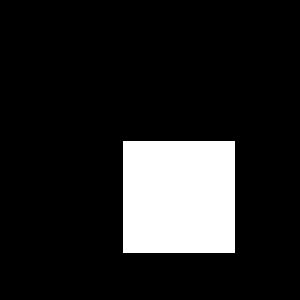circle: (123, 141, 235, 253)
